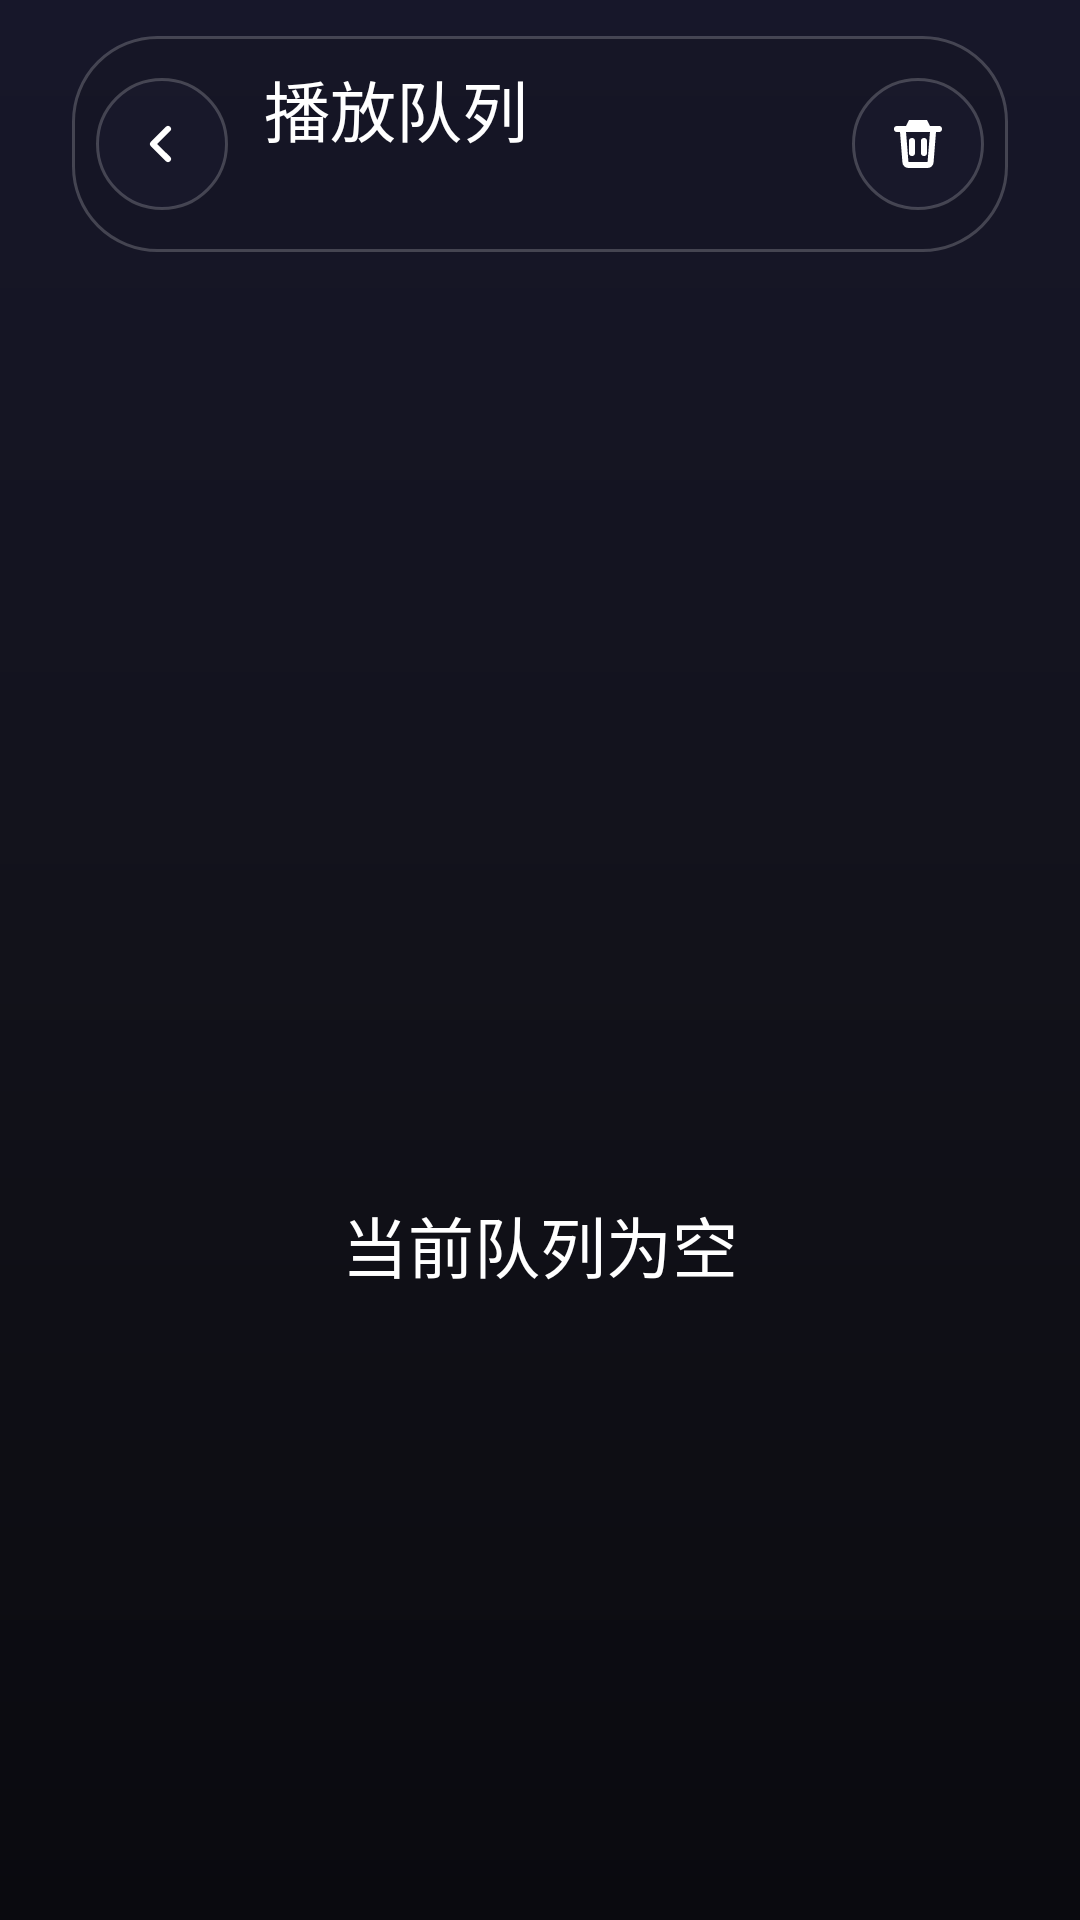

Point at icon controls on the screen. Image size 1080w x 1920h, points as (x=x, y=y).
清空队列: (x=918, y=144)
返回: (x=162, y=144)
